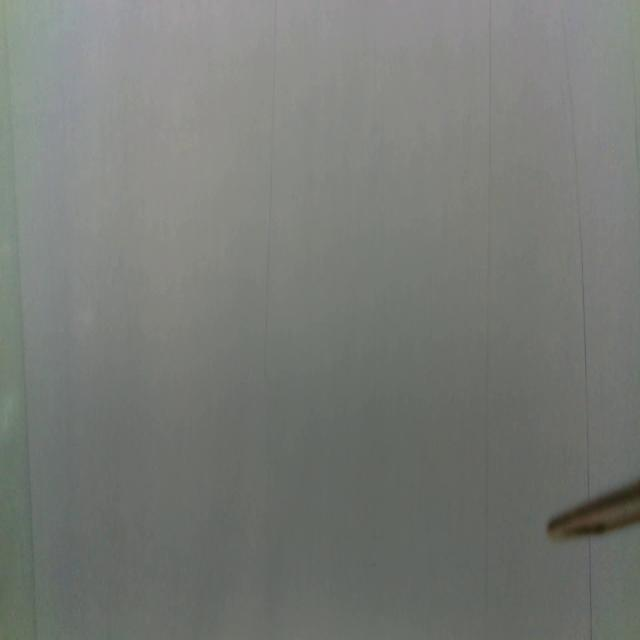crease: (4, 16, 39, 639), (560, 0, 592, 500), (482, 0, 496, 640), (262, 1, 278, 365), (587, 536, 594, 640)
